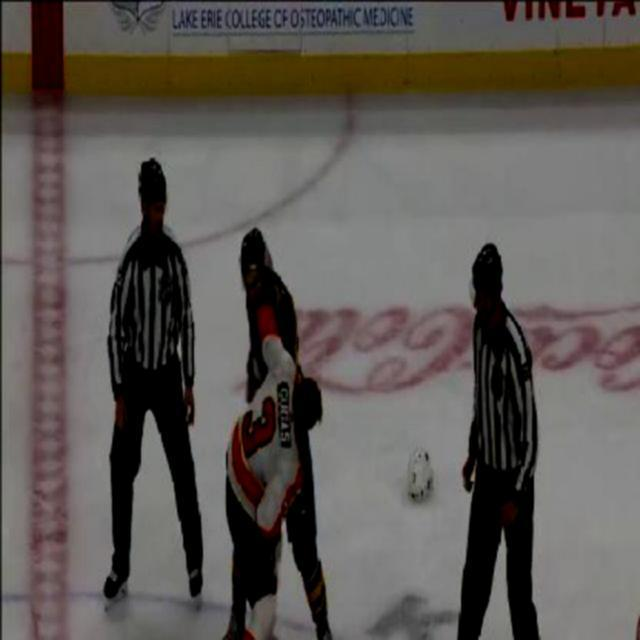fight: (224, 226, 336, 640)
